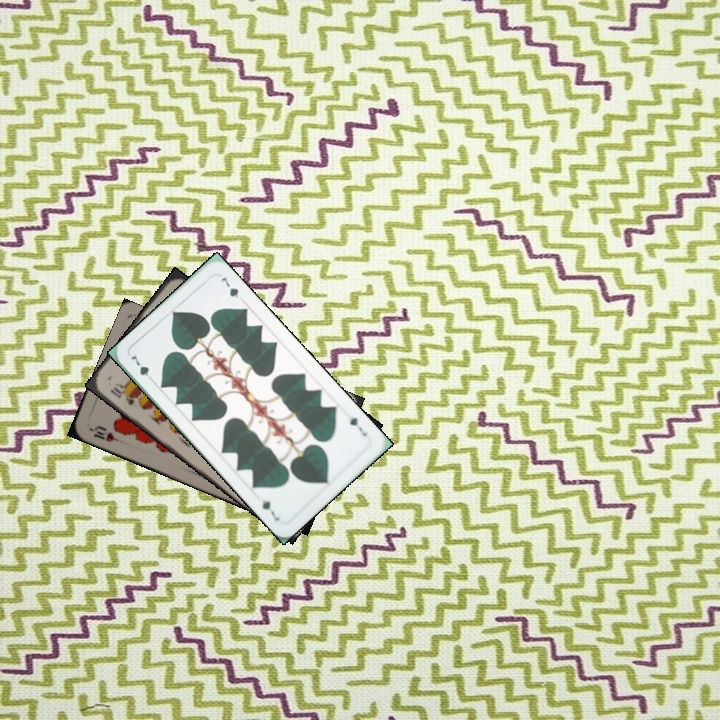E10: (106, 380, 137, 408)
G7: (127, 351, 157, 385), (344, 409, 369, 439)
H10: (85, 422, 125, 445)
